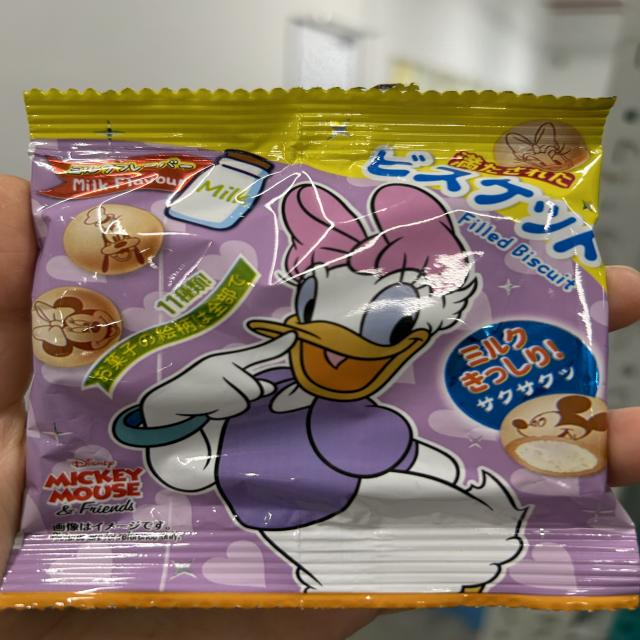object_name: (32, 94, 603, 591)
